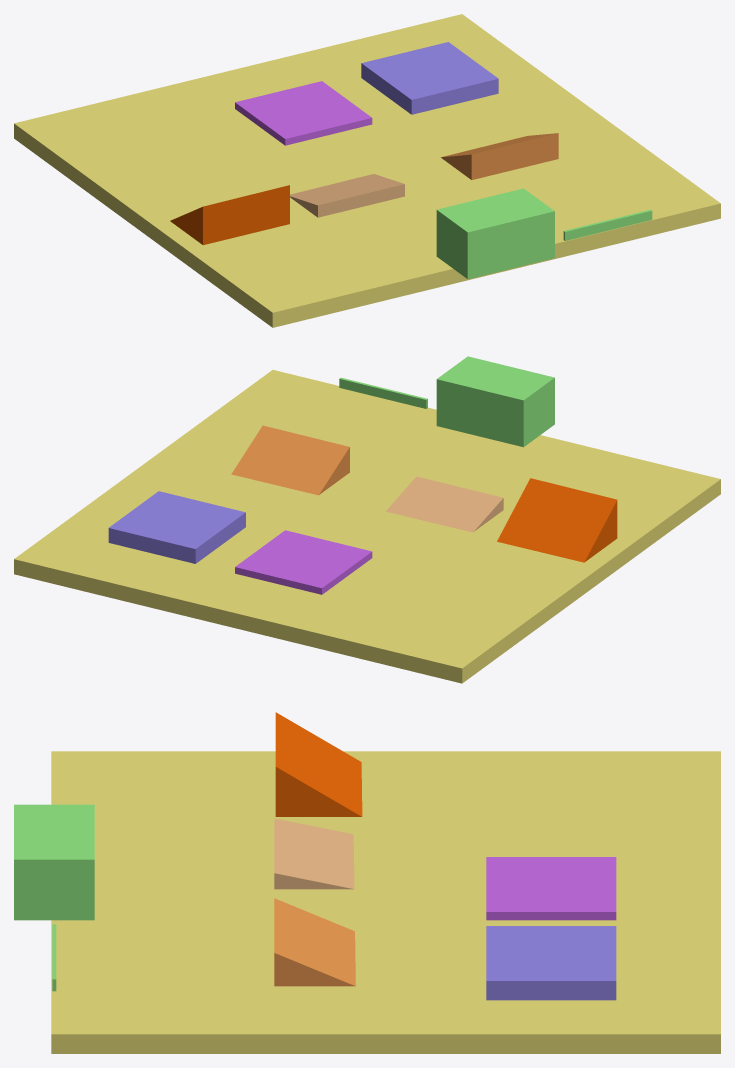
Rendered from prac_stage5.fbx.
3 views of the same model, one above another, from view 1: azimuth 30°, elevation 25°; view 2: azimuth 150°, elevation 25°; view 3: azimuth 270°, elevation 25° (orthographic). The views are drawn at different scales.
Visible parts, largest first — view 1: 立方体, 立方体.001, 立方体.007, 立方体.006, 立方体.005, 立方体.002, 立方体.004, 立方体.003; view 2: 立方体, 立方体.001, 立方体.005, 立方体.007, 立方体.002, 立方体.006, 立方体.004, 立方体.003; view 3: 立方体, 立方体.007, 立方体.001, 立方体.006, 立方体.005, 立方体.002, 立方体.004.
Boxes of the visible parts, left/top/right/bottom form: 立方体: left=14, top=14, right=720, bottom=327; 立方体.001: left=436, top=188, right=554, bottom=279; 立方体.007: left=361, top=42, right=498, bottom=114; 立方体.006: left=235, top=81, right=372, bottom=145; 立方体.005: left=170, top=185, right=289, bottom=245; 立方体.002: left=441, top=133, right=558, bottom=179; 立方体.004: left=290, top=174, right=404, bottom=217; 立方体.003: left=563, top=209, right=652, bottom=240; 立方体: left=14, top=370, right=720, bottom=683; 立方体.001: left=436, top=356, right=554, bottom=447; 立方体.005: left=497, top=478, right=617, bottom=562; 立方体.007: left=108, top=491, right=245, bottom=563; 立方体.002: left=231, top=425, right=349, bottom=495; 立方体.006: left=235, top=530, right=372, bottom=594; 立方体.004: left=386, top=476, right=503, bottom=532; 立方体.003: left=339, top=377, right=427, bottom=408; 立方体: left=51, top=751, right=720, bottom=1053; 立方体.007: left=486, top=926, right=616, bottom=1000; 立方体.001: left=14, top=804, right=94, bottom=920; 立方体.006: left=486, top=857, right=616, bottom=920; 立方体.005: left=275, top=712, right=362, bottom=816; 立方体.002: left=274, top=898, right=355, bottom=986; 立方体.004: left=274, top=818, right=354, bottom=889.
Bounding box in the file's own units: 1029 × 136 × 1087.
